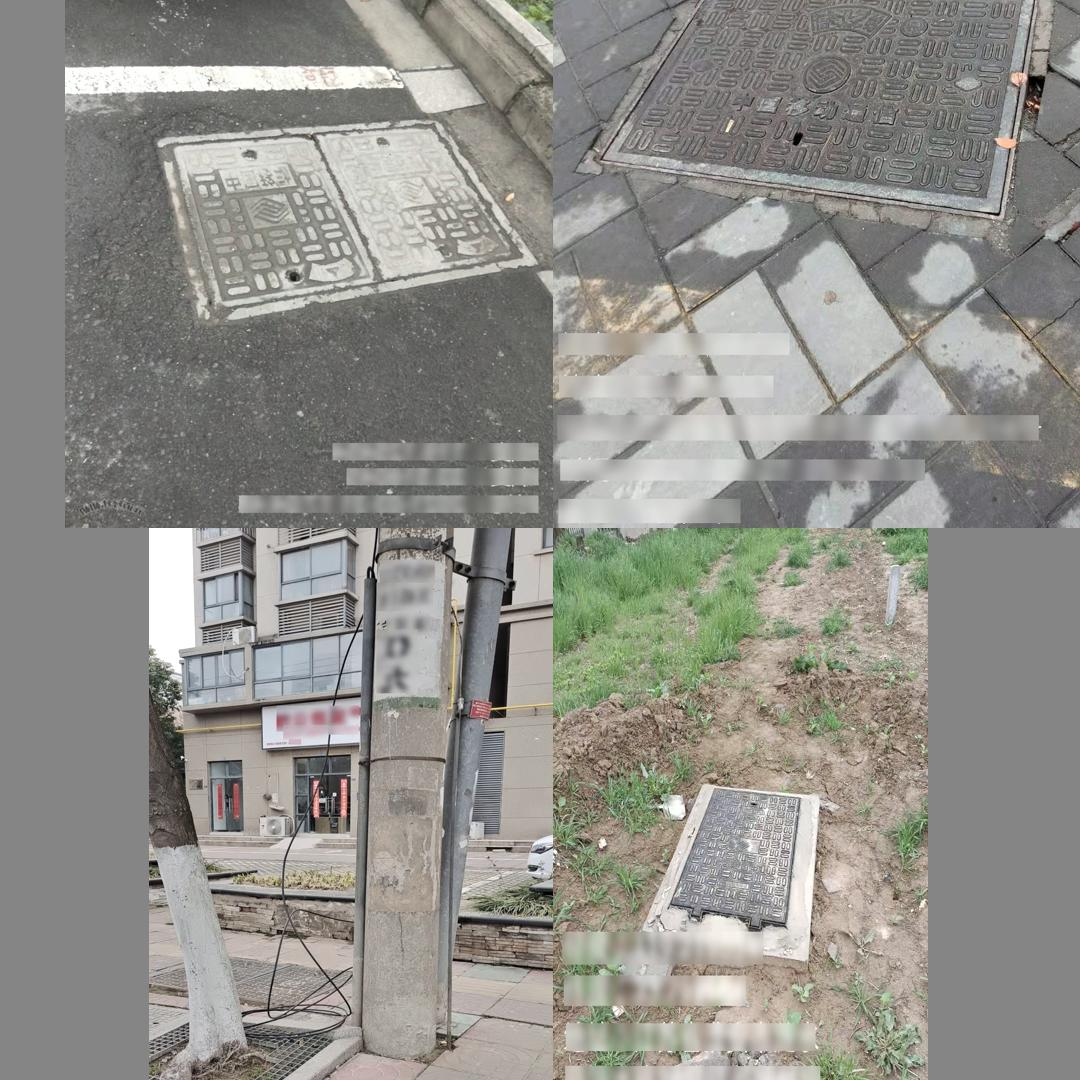good: (596, 0, 1038, 219), (158, 120, 542, 322), (666, 781, 805, 941), (149, 955, 352, 1008)
